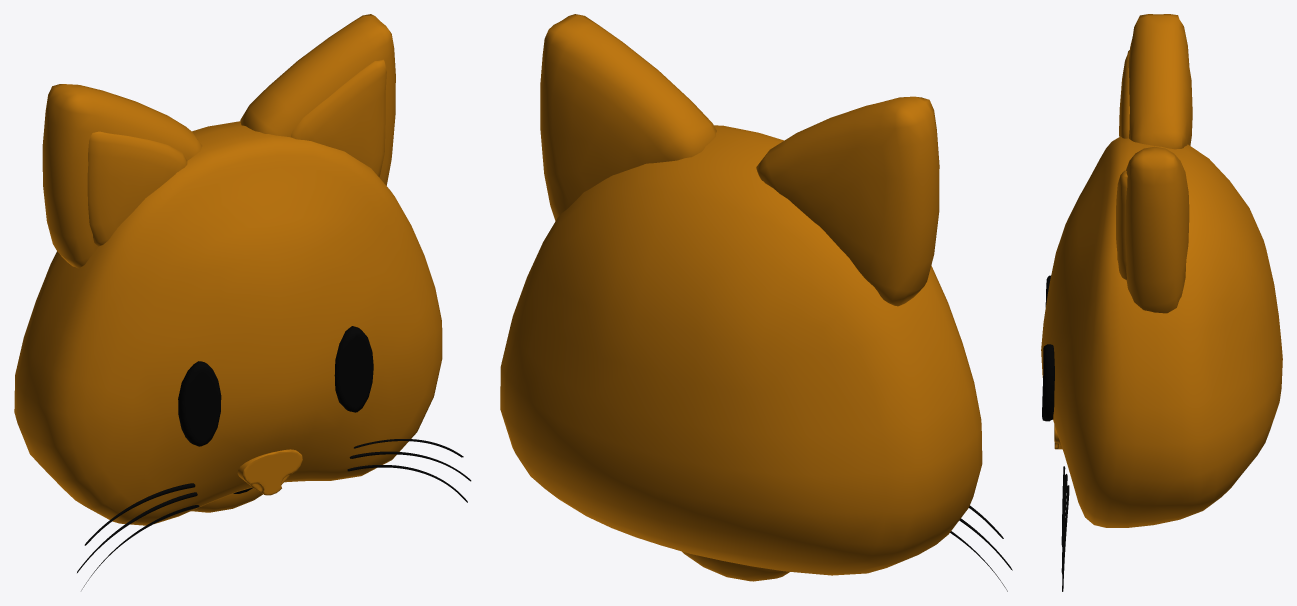
File: cat FBX.FBX
3 renders of one model, left to right at view 1: azimuth 30°, elevation 25°; view 2: azimuth 150°, elevation 25°; view 3: azimuth 270°, elevation 25°, orthographic. The views are drawn at different scales.
Parts seen in each view (by area): view 1: Cat3, Cat1, Cat2, Cat4, Cat6, cat5, Cxat8; view 2: Cat3, Cat1, Cxat8; view 3: Cat3, Cat1, Cat2, Cat4, Cat6.
Boxes of the visible parts, left/top/right/bottom form: Cat3: left=14, top=121, right=442, bottom=525; Cat1: left=42, top=14, right=395, bottom=268; Cat2: left=87, top=59, right=386, bottom=246; Cat4: left=178, top=326, right=373, bottom=446; Cat6: left=77, top=439, right=471, bottom=590; cat5: left=237, top=449, right=302, bottom=495; Cxat8: left=191, top=488, right=262, bottom=512; Cat3: left=500, top=125, right=982, bottom=575; Cat1: left=540, top=14, right=939, bottom=306; Cxat8: left=682, top=551, right=789, bottom=581; Cat3: left=1041, top=136, right=1282, bottom=527; Cat1: left=1125, top=14, right=1192, bottom=313; Cat2: left=1116, top=50, right=1129, bottom=279; Cat4: left=1042, top=275, right=1054, bottom=421; Cat6: left=1061, top=466, right=1069, bottom=591.
Bounding box in the file's own units: 19.7 × 22.12 × 11.48.
